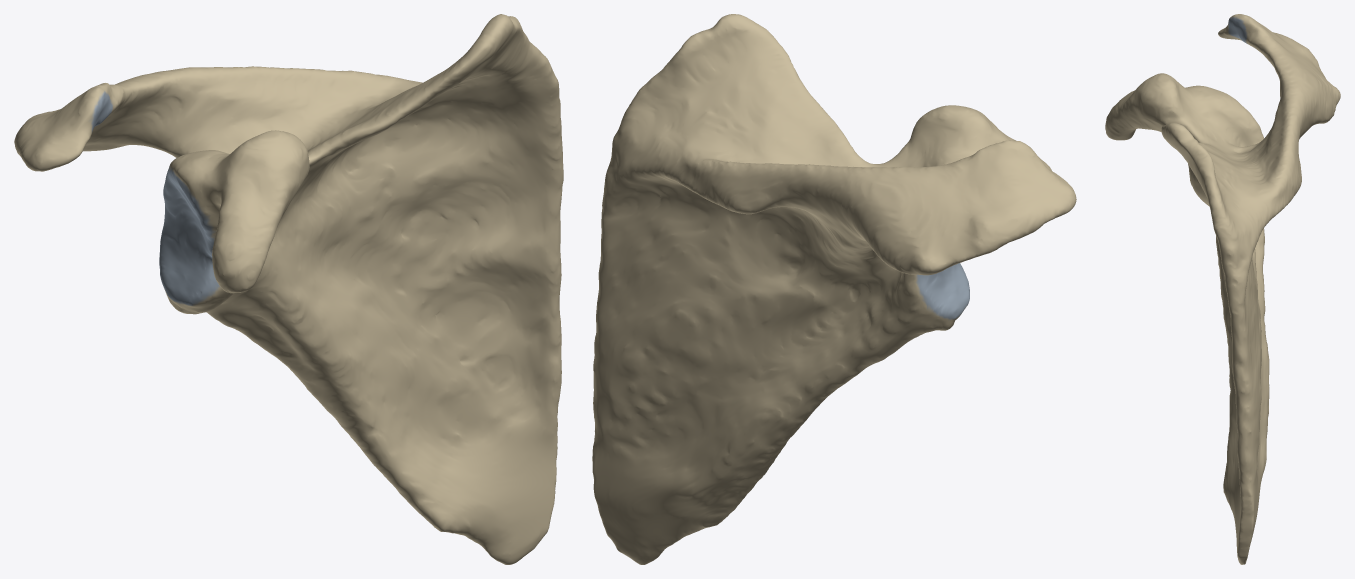
Rendered from scapula_droite.glb.
3 renders of one model, left to right at view 1: azimuth 30°, elevation 25°; view 2: azimuth 150°, elevation 25°; view 3: azimuth 270°, elevation 25°, orthographic. The views are drawn at different scales.
Visible parts, largest first — view 1: Scapula_droite; view 2: Scapula_droite; view 3: Scapula_droite.
Boxes of the visible parts, x1,y1,x2,y2 form: Scapula_droite: (14, 14, 563, 564); Scapula_droite: (592, 14, 1076, 564); Scapula_droite: (1105, 14, 1340, 564).
Bounding box in the file's own units: 0.1232 × 0.1314 × 0.0667.
